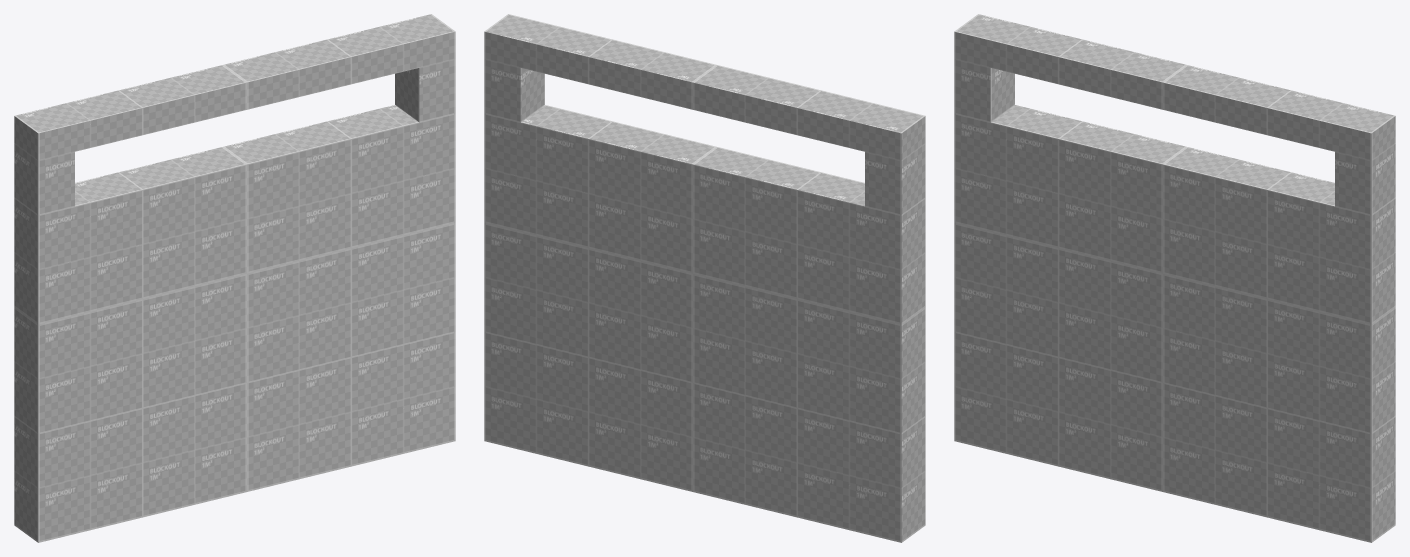
Rendered from BlockoutThickWall08WindowHigh.fbx.
3 renders of one model, left to right at view 1: azimuth 30°, elevation 25°; view 2: azimuth 150°, elevation 25°; view 3: azimuth 330°, elevation 25°, orthographic.
Visible parts, largest first — view 1: BlockoutThickWall08WindowHigh; view 2: BlockoutThickWall08WindowHigh; view 3: BlockoutThickWall08WindowHigh.
Boxes of the visible parts, left/top/right/bottom form: BlockoutThickWall08WindowHigh: left=14, top=14, right=455, bottom=542; BlockoutThickWall08WindowHigh: left=484, top=14, right=925, bottom=542; BlockoutThickWall08WindowHigh: left=954, top=14, right=1395, bottom=542.
Bounding box in the file's own units: 800 × 750 × 80.
